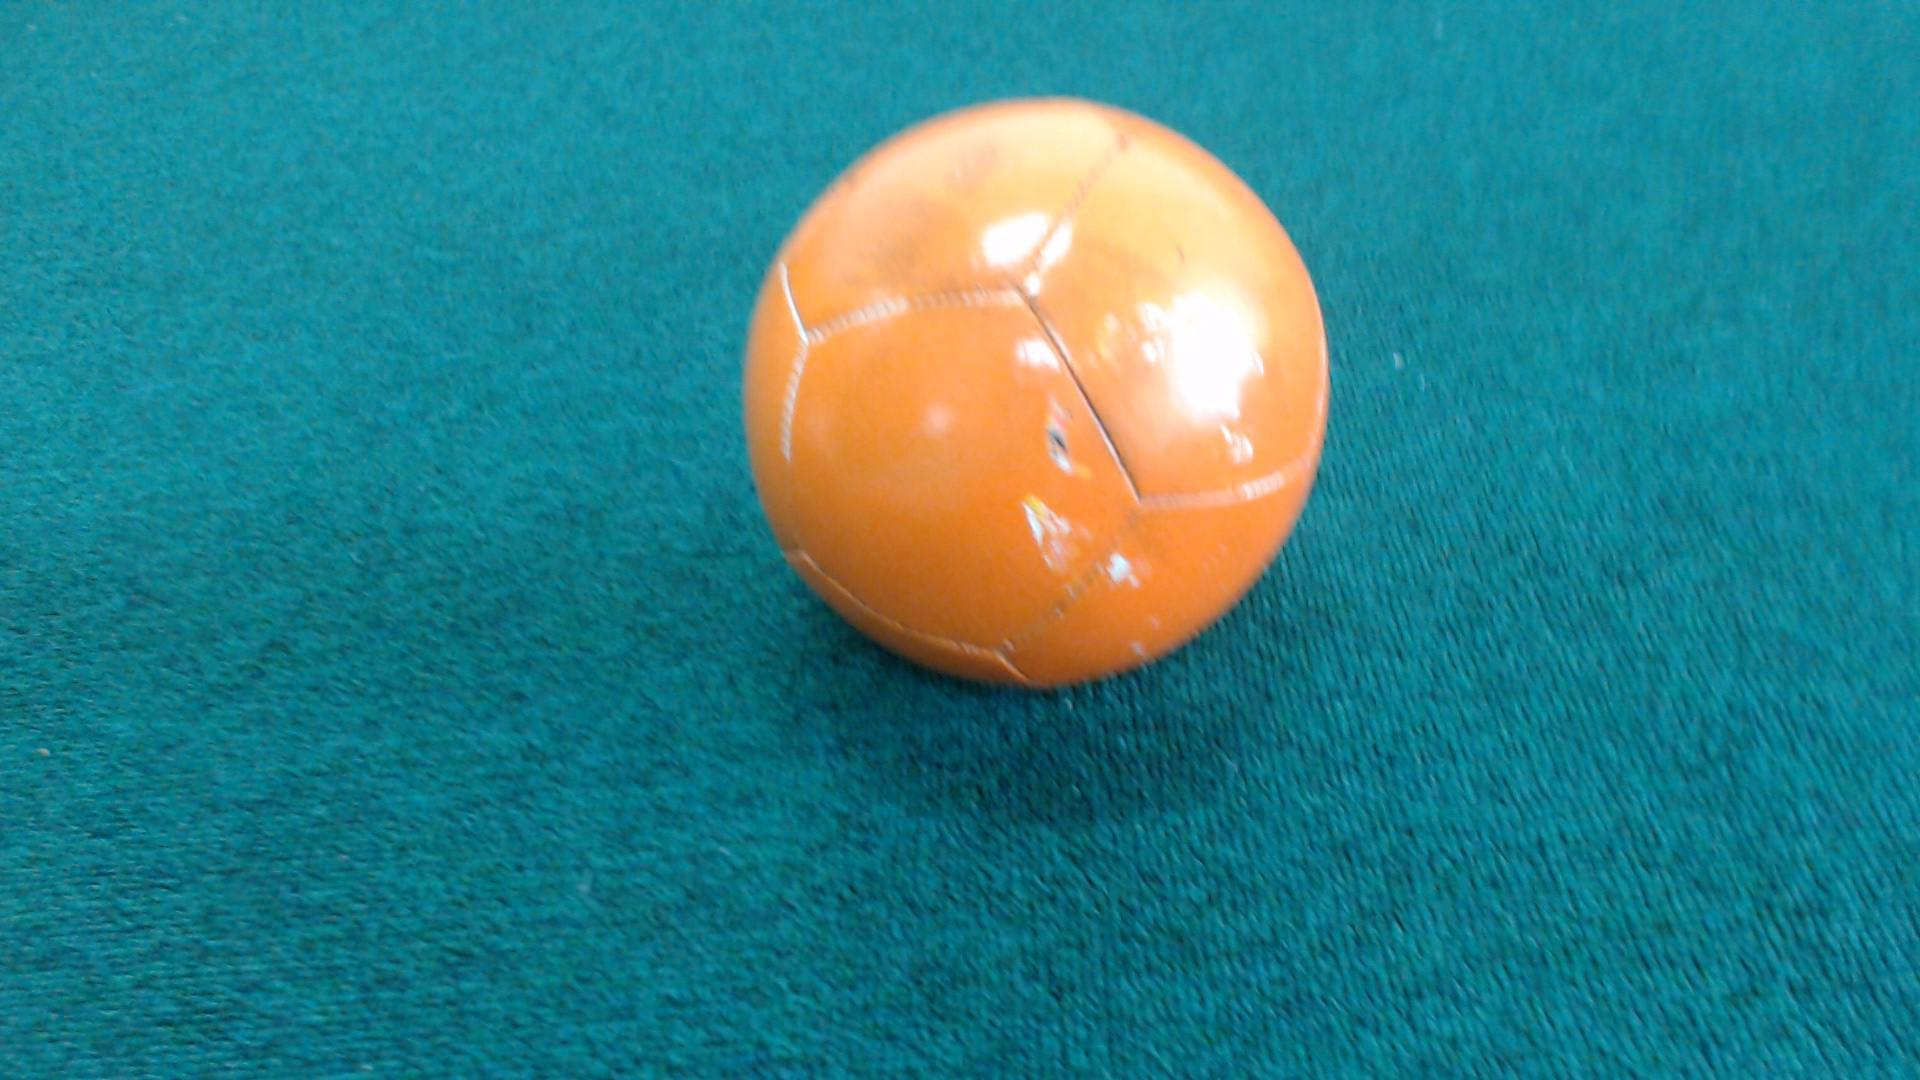bola: (728, 75, 1346, 740)
